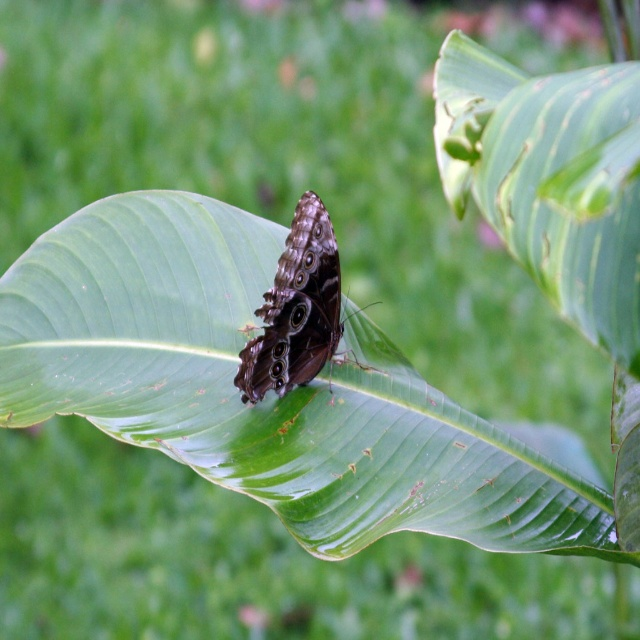Butterfly: (232, 187, 361, 435)
